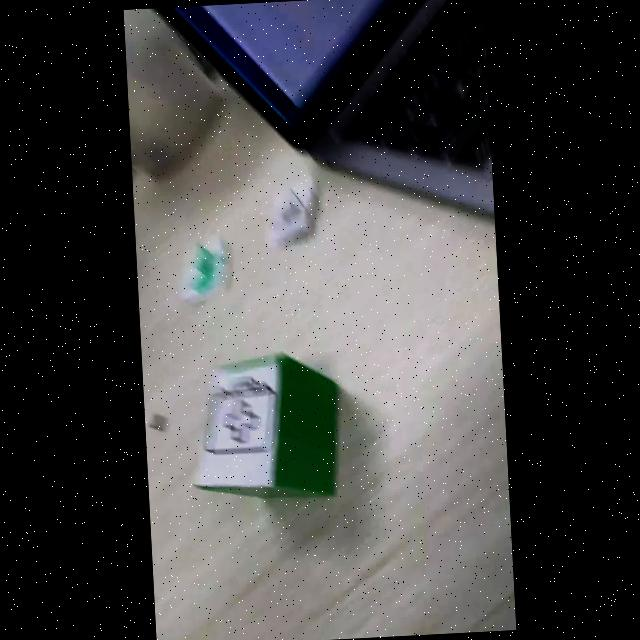Medkit: (203, 365, 278, 458)
